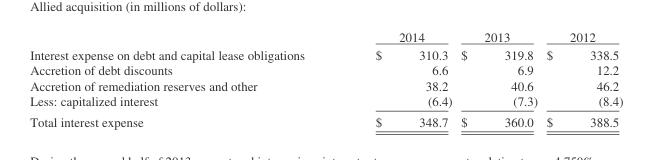table: (29, 29, 622, 128)
table column: (29, 29, 339, 128), (339, 29, 455, 128), (455, 29, 541, 128), (541, 29, 622, 128)
table column header: (29, 29, 622, 45)
table row: (29, 93, 622, 111), (29, 45, 622, 62), (29, 111, 622, 128), (29, 29, 622, 45), (29, 77, 622, 93), (29, 62, 622, 77)
